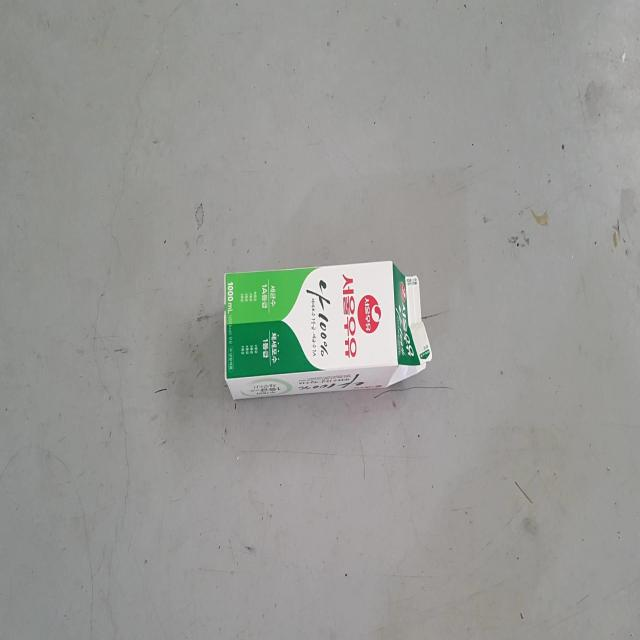paperpack: (224, 260, 433, 400)
